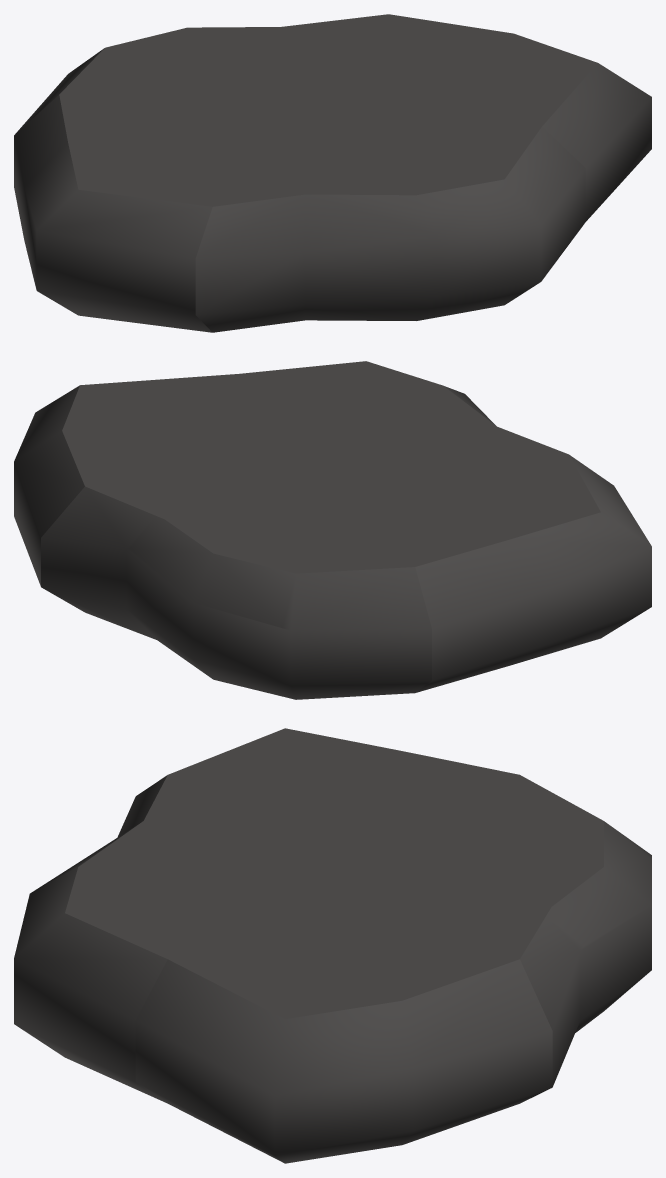
3 renders of one model, top to bottom at view 1: azimuth 30°, elevation 25°; view 2: azimuth 150°, elevation 25°; view 3: azimuth 270°, elevation 25°, orthographic. The views are drawn at different scales.
Parts seen in each view (by area): view 1: Box001; view 2: Box001; view 3: Box001.
Part boxes in pixels (x1,y1,x2,y2): Box001: (14, 14, 651, 332); Box001: (14, 361, 651, 699); Box001: (14, 728, 651, 1163).
Size of the model in its own units: 50.17 by 9.81 by 39.26.
